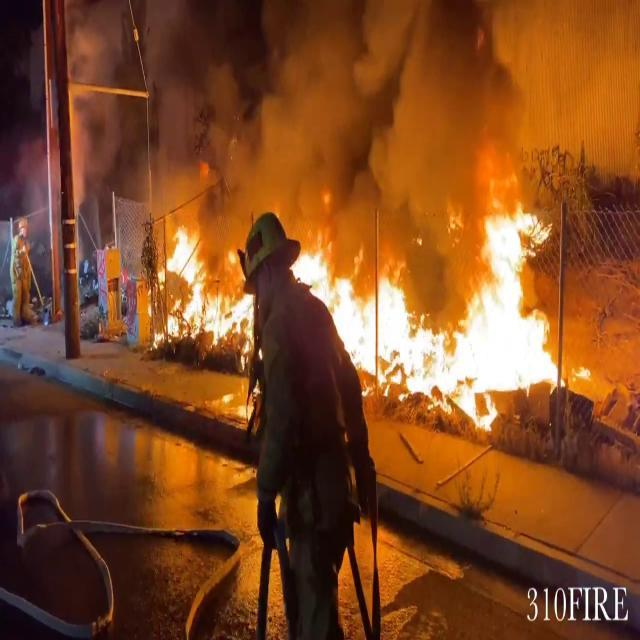Fire: (295, 192, 569, 427), (152, 219, 239, 352)
Smoke: (56, 0, 570, 222)
